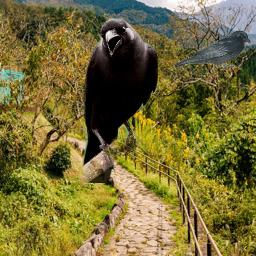Crow: (81, 18, 158, 183), (173, 30, 251, 68)
